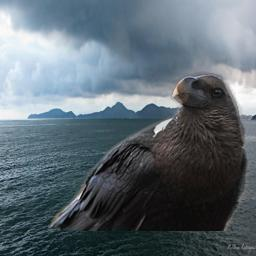Crow: (45, 70, 252, 231)
